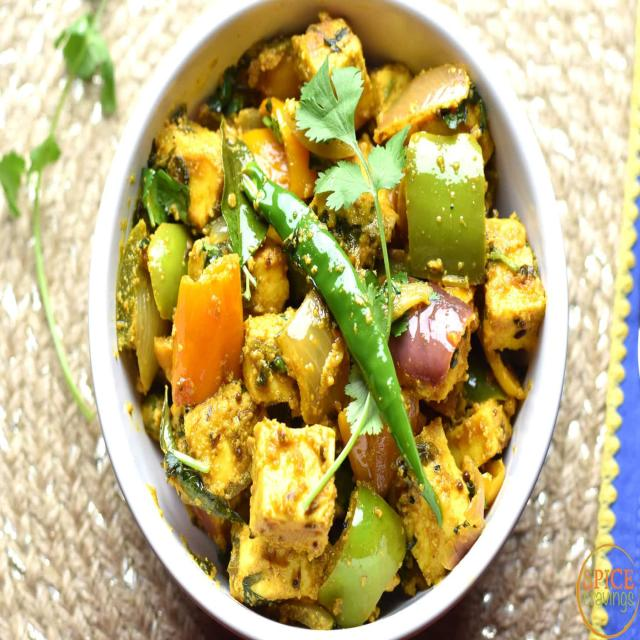panneer: (162, 78, 540, 580)
